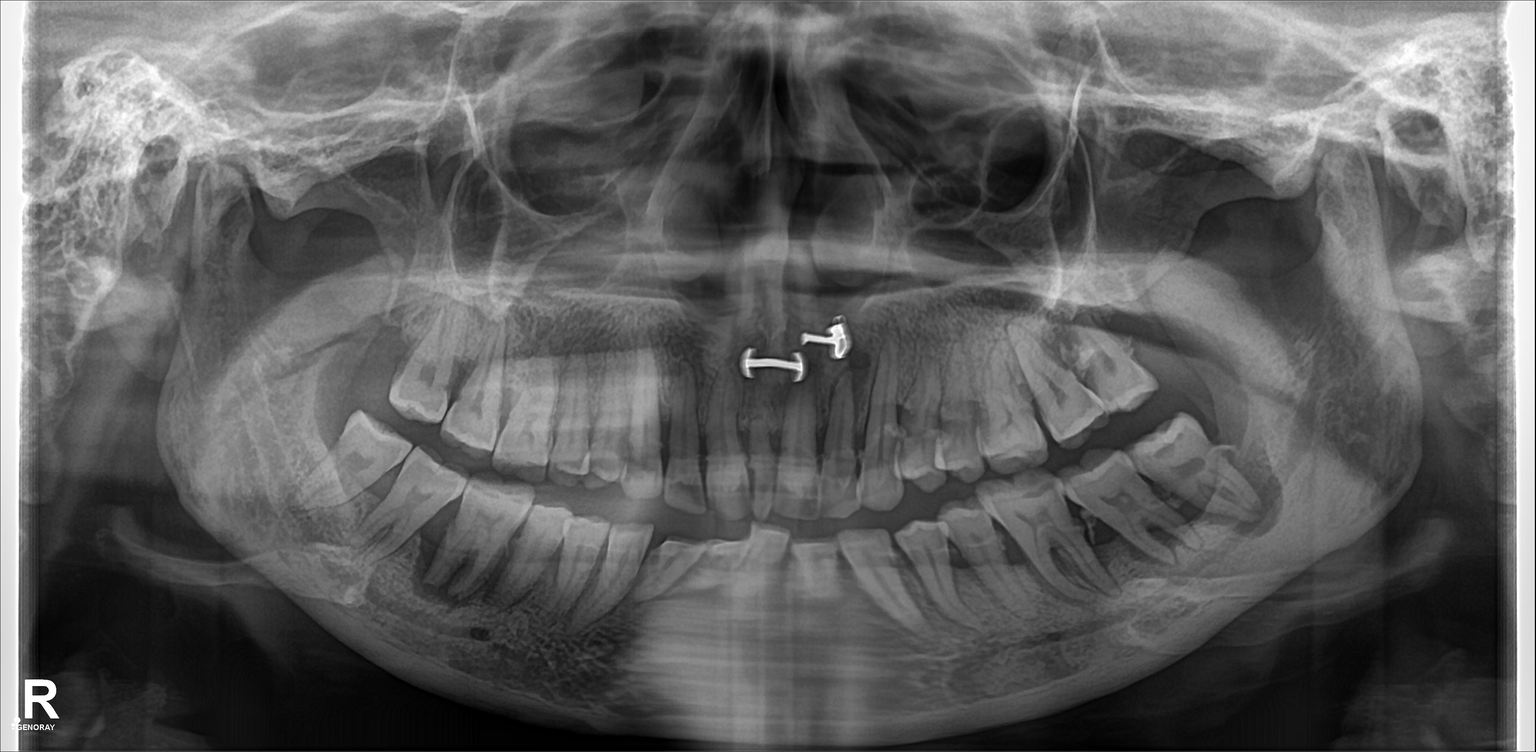Impacted Third Molar: (1147, 432, 1248, 509), (313, 423, 404, 508)
Missing Tooth: (358, 279, 407, 417), (1123, 292, 1181, 384)
